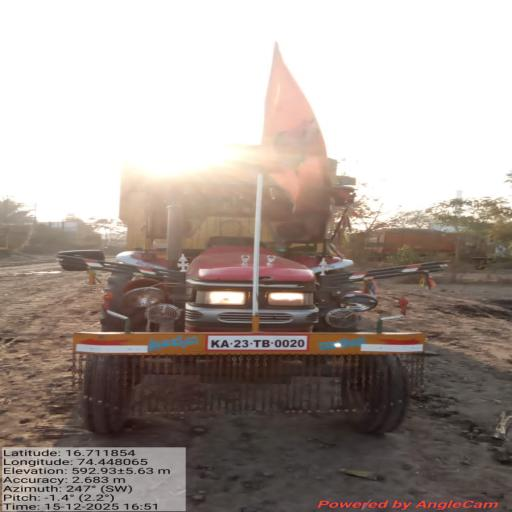number_plate: (207, 335, 308, 350)
